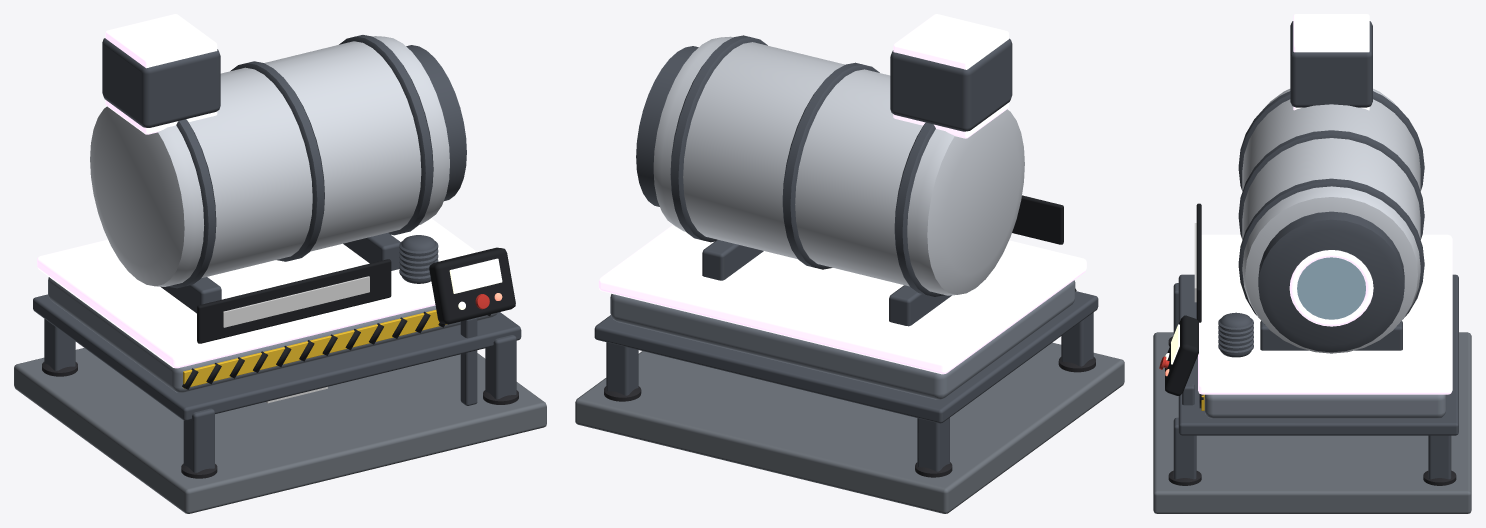
Rendered from Sublimator.fbx.
3 renders of one model, left to right at view 1: azimuth 30°, elevation 25°; view 2: azimuth 150°, elevation 25°; view 3: azimuth 270°, elevation 25°, orthographic. The views are drawn at different scales.
Visible parts, largest first — view 1: Body__Chrome, Body__MetalDark, Body__Plate, Body__NeonPurple, Body__Black, Body__Steel, Body__Yellow, Body__NeonPurple!1, Body__NeonGreen, Body__Rubber; view 2: Body__Chrome, Body__Plate, Body__MetalDark, Body__NeonPurple, Body__Steel, Body__Black, Body__Rubber; view 3: Body__MetalDark, Body__Plate, Body__NeonPurple, Body__Chrome, Body__Steel, Body__Glass, Body__Black, Body__Rubber.
Part boxes in pixels (x1,y1,x2,y2): Body__Chrome: [90, 36, 449, 286]; Body__MetalDark: [33, 35, 521, 472]; Body__Plate: [14, 348, 546, 513]; Body__NeonPurple: [37, 14, 477, 368]; Body__Black: [182, 247, 515, 389]; Body__Steel: [48, 277, 497, 392]; Body__Yellow: [183, 310, 447, 388]; Body__NeonPurple!1: [223, 276, 369, 327]; Body__NeonGreen: [449, 258, 502, 309]; Body__Rubber: [42, 362, 518, 478]; Body__Chrome: [653, 36, 1024, 295]; Body__Plate: [575, 342, 1124, 513]; Body__MetalDark: [594, 35, 1098, 471]; Body__NeonPurple: [598, 14, 1086, 374]; Body__Steel: [610, 280, 1075, 399]; Body__Black: [1012, 195, 1076, 291]; Body__Rubber: [604, 357, 1095, 477]; Body__MetalDark: [1173, 21, 1458, 479]; Body__Plate: [1153, 332, 1471, 513]; Body__NeonPurple: [1198, 14, 1452, 394]; Body__Chrome: [1242, 88, 1420, 353]; Body__Steel: [1204, 394, 1446, 418]; Body__Glass: [1297, 257, 1365, 319]; Body__Black: [1165, 203, 1203, 408]; Body__Rubber: [1168, 336, 1456, 485].
Size of the model in its own units: 6 by 6.69 by 5.
